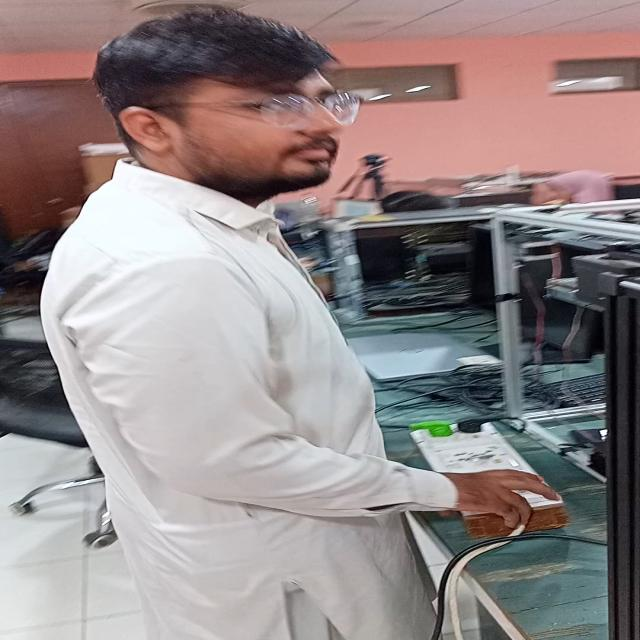dress: (45, 158, 462, 637)
glasses: (249, 83, 369, 131)
